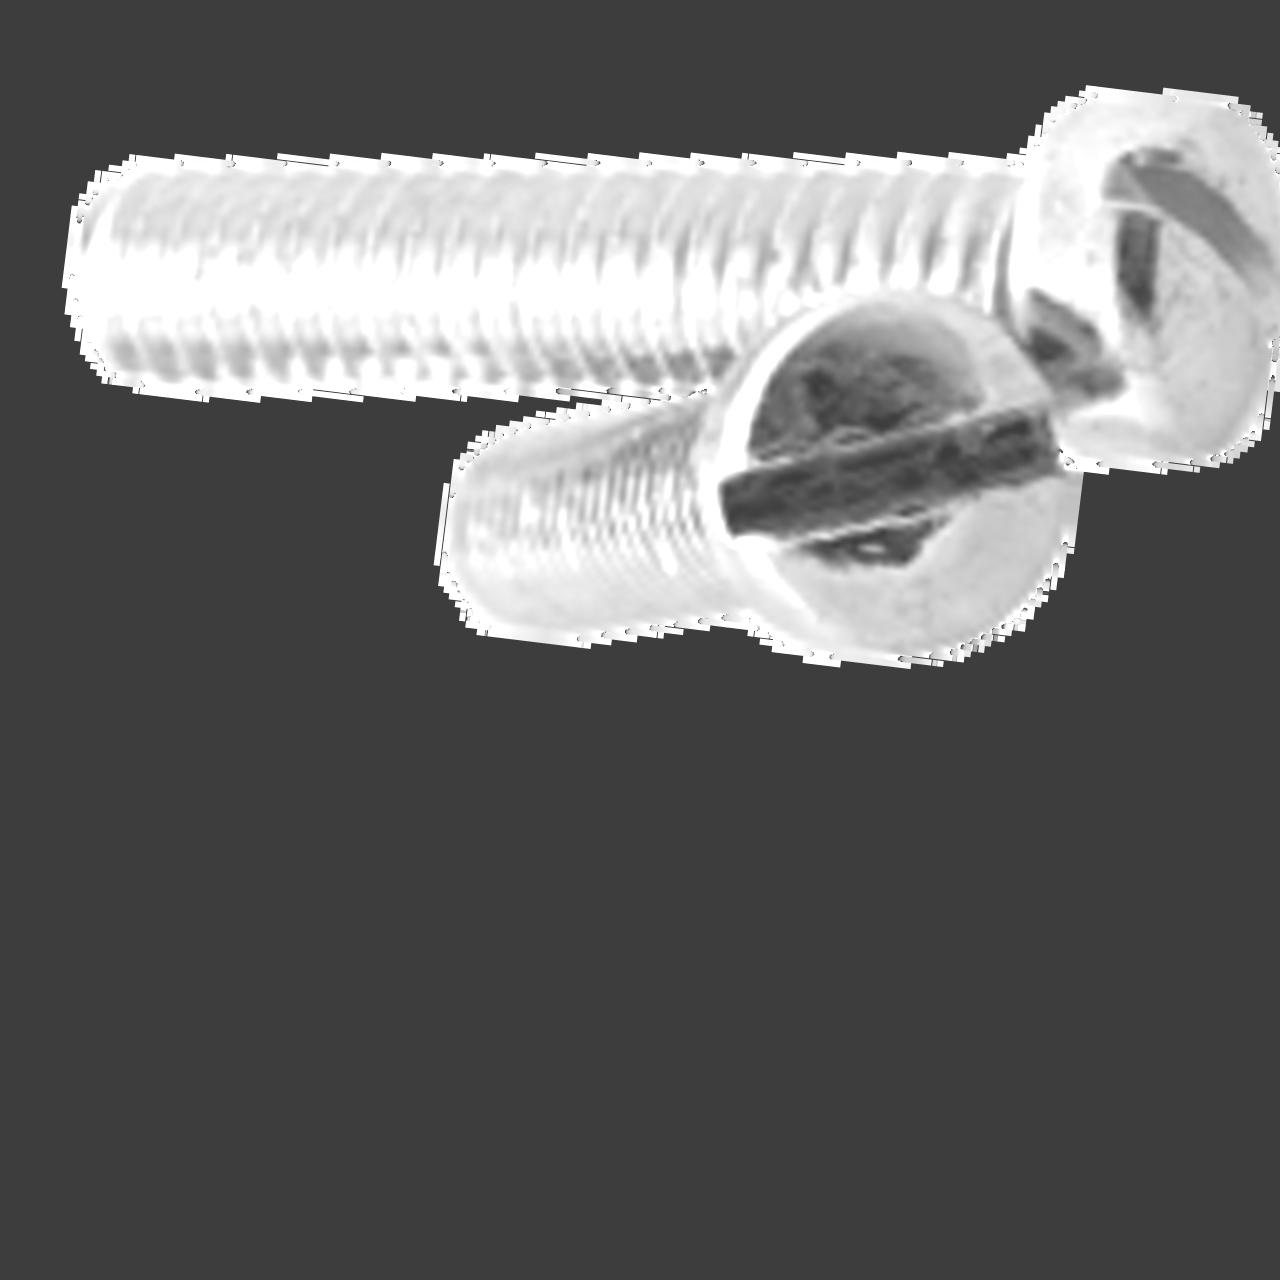screw: (685, 266, 1091, 689)
